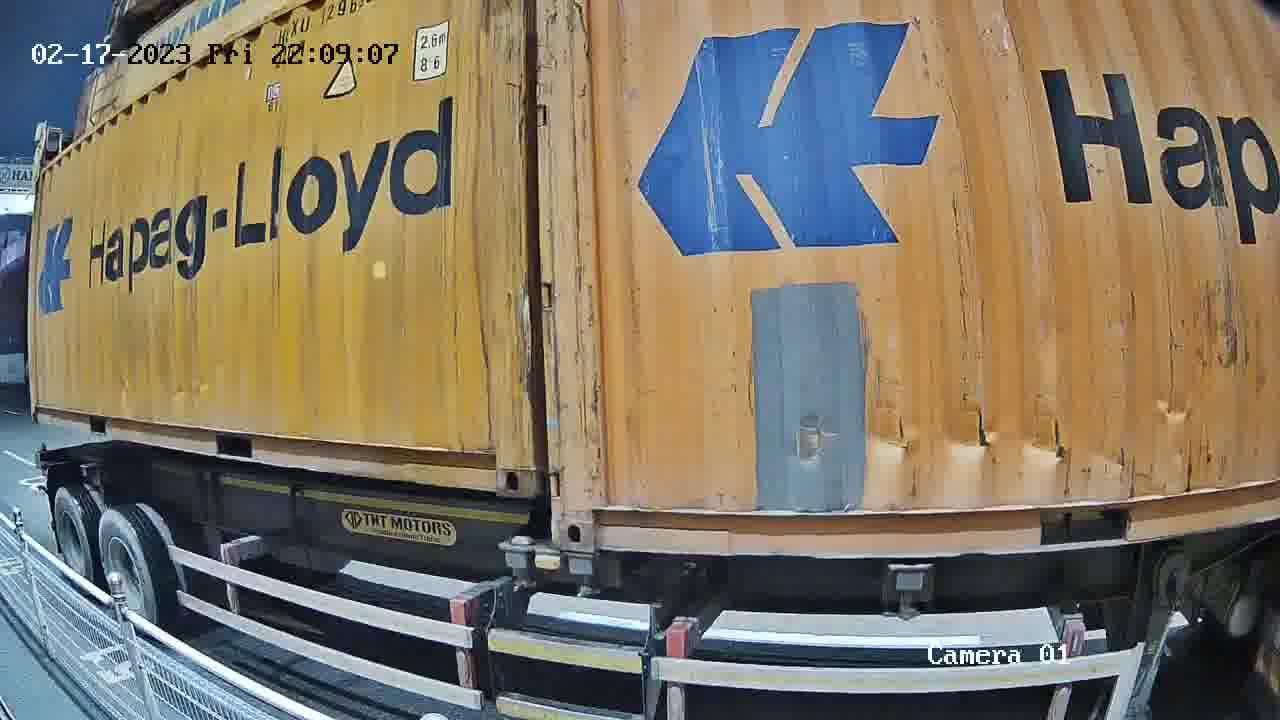Cone: (500, 535, 536, 591), (564, 553, 602, 600)
Hole_L: (555, 483, 635, 553)
Hole_R: (462, 429, 533, 497)
Tire: (97, 510, 162, 632), (54, 491, 95, 592)
